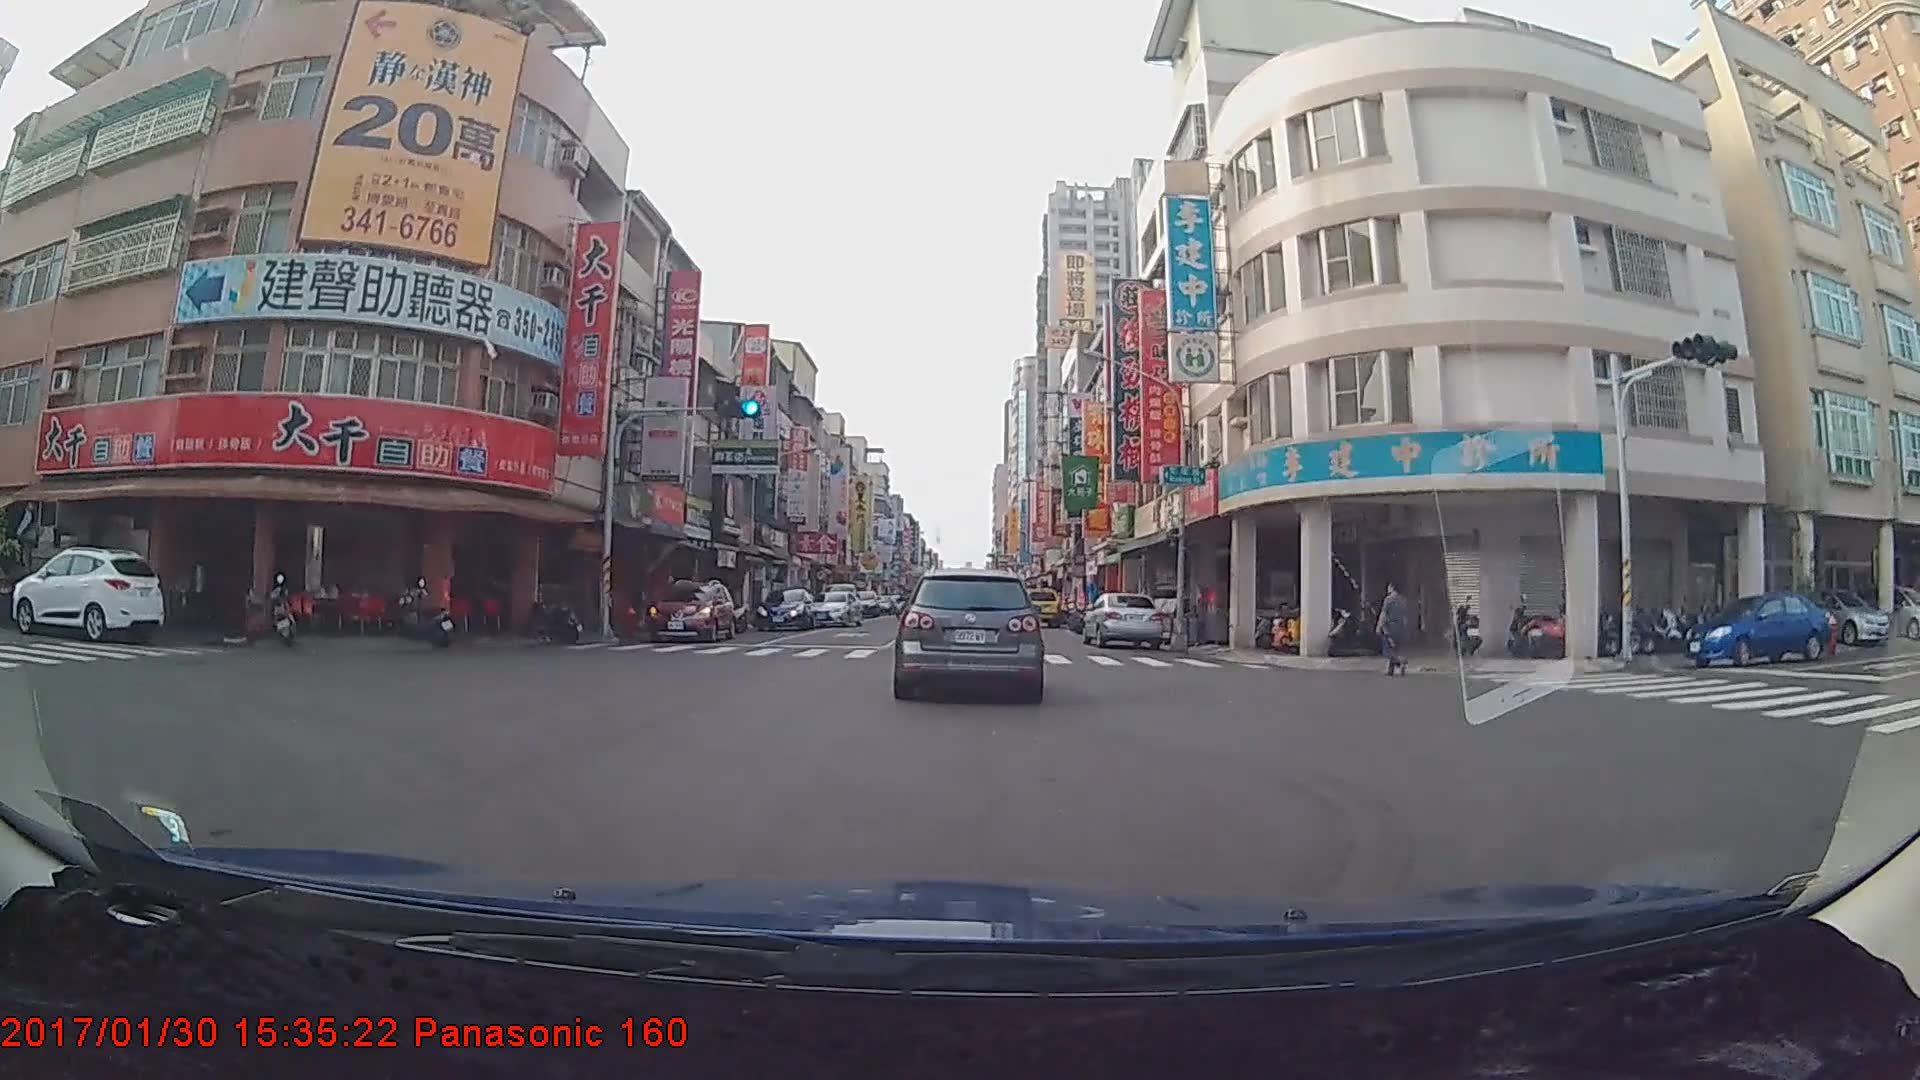pedestrian: (1375, 585, 1414, 681)
vehicle: (894, 570, 1043, 702), (9, 546, 164, 644), (1681, 593, 1834, 671), (1788, 579, 1895, 650), (646, 580, 736, 641), (1081, 591, 1163, 650), (1845, 580, 1919, 645), (753, 587, 816, 632), (805, 589, 863, 628), (1015, 586, 1063, 627)
